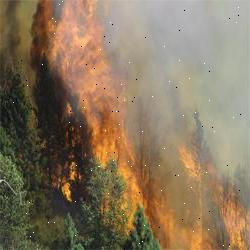fire: (23, 6, 247, 250)
